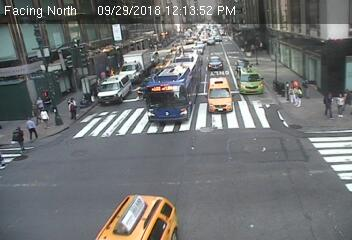car: (96, 193, 178, 240), (148, 52, 200, 123), (234, 66, 265, 96), (120, 50, 151, 79), (97, 75, 130, 102), (207, 77, 232, 112), (207, 55, 224, 71), (190, 40, 205, 53), (213, 34, 222, 43), (206, 37, 215, 45)
